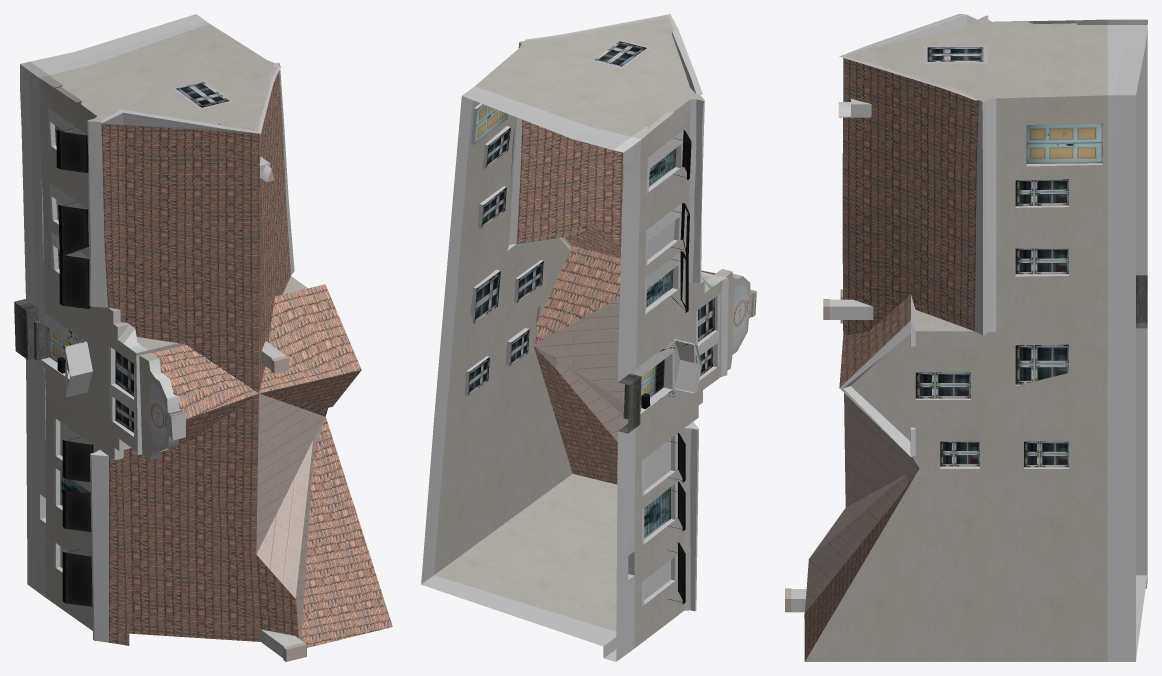
The model's file is Uus_4-origo.obj.
3 views of the same model, side by side, from view 1: azimuth 30°, elevation 25°; view 2: azimuth 150°, elevation 25°; view 3: azimuth 270°, elevation 25° (orthographic). The views are drawn at different scales.
Visible parts, largest first — view 1: Box001; view 2: Box001; view 3: Box001.
Boxes of the visible parts, box(x1,y1,x2,y2) form: Box001: box(14, 14, 392, 661); Box001: box(421, 14, 756, 661); Box001: box(785, 14, 1147, 661).
Size of the model in its own units: 9.56 by 21.5 by 12.36.
